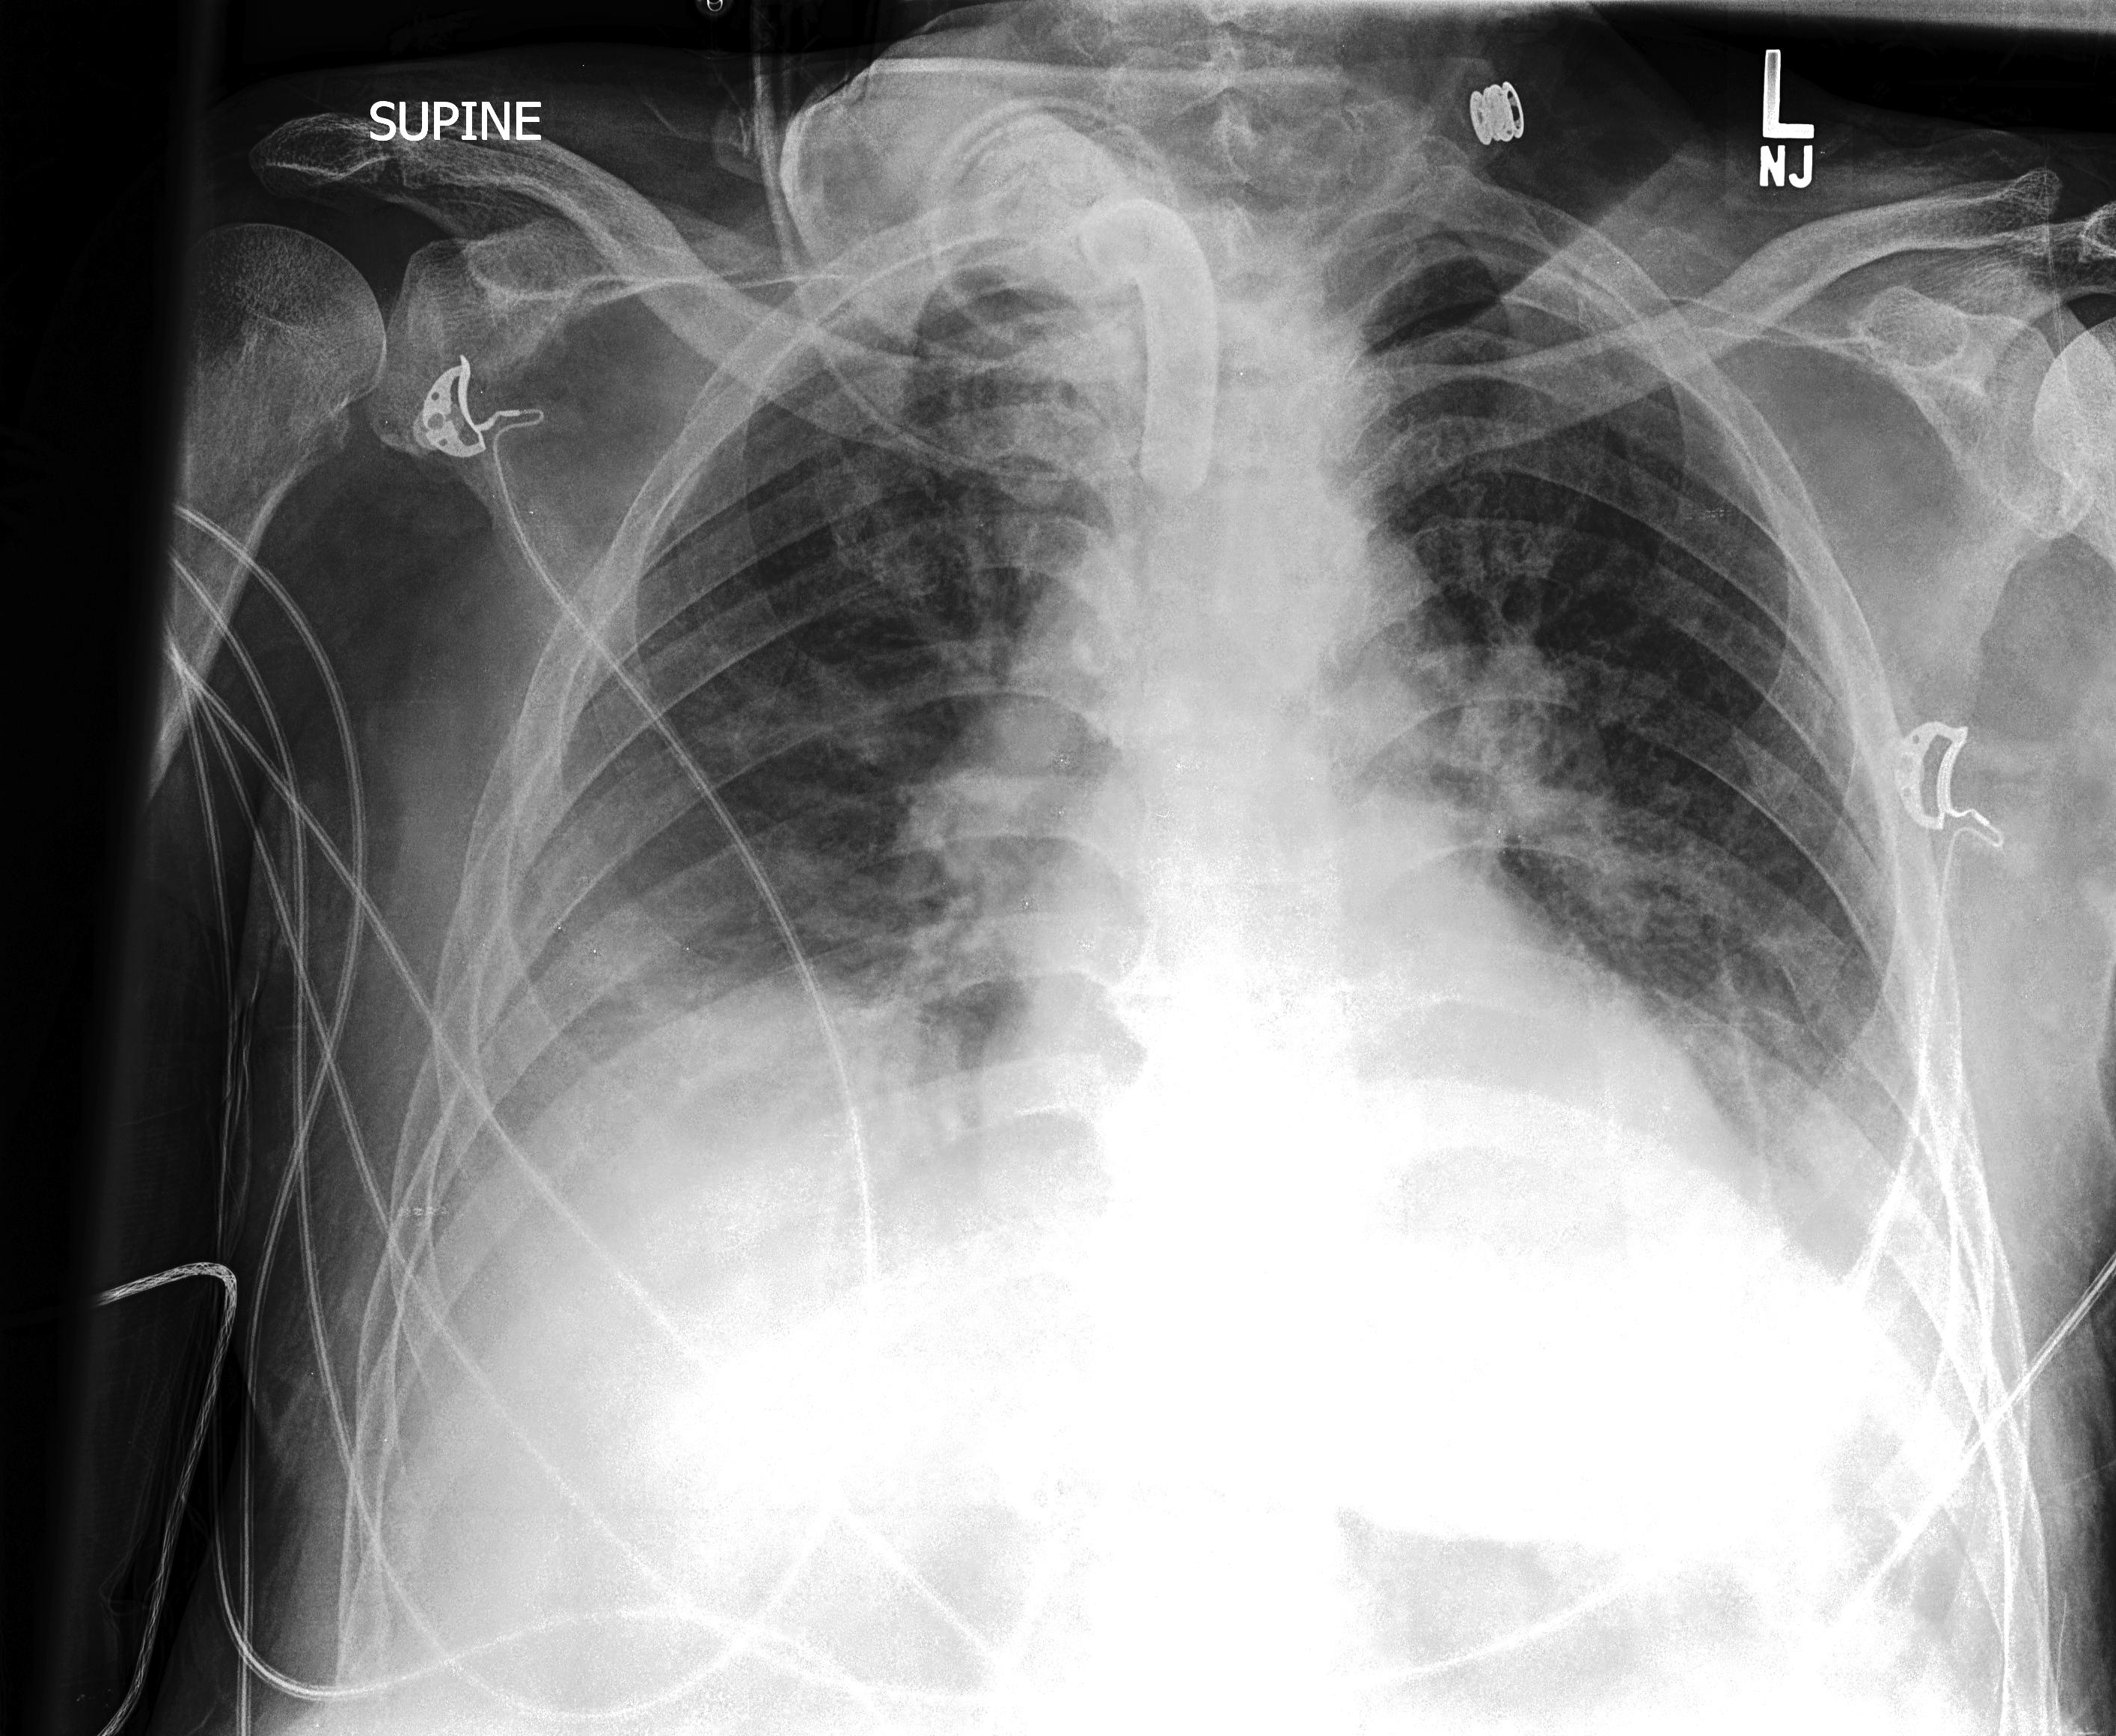Pleural Effusion: (371, 887, 938, 1450)
